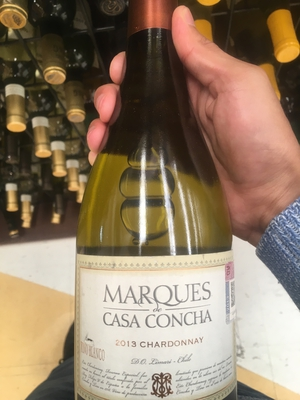marques de casa concha chardonnay: (69, 8, 249, 400)
